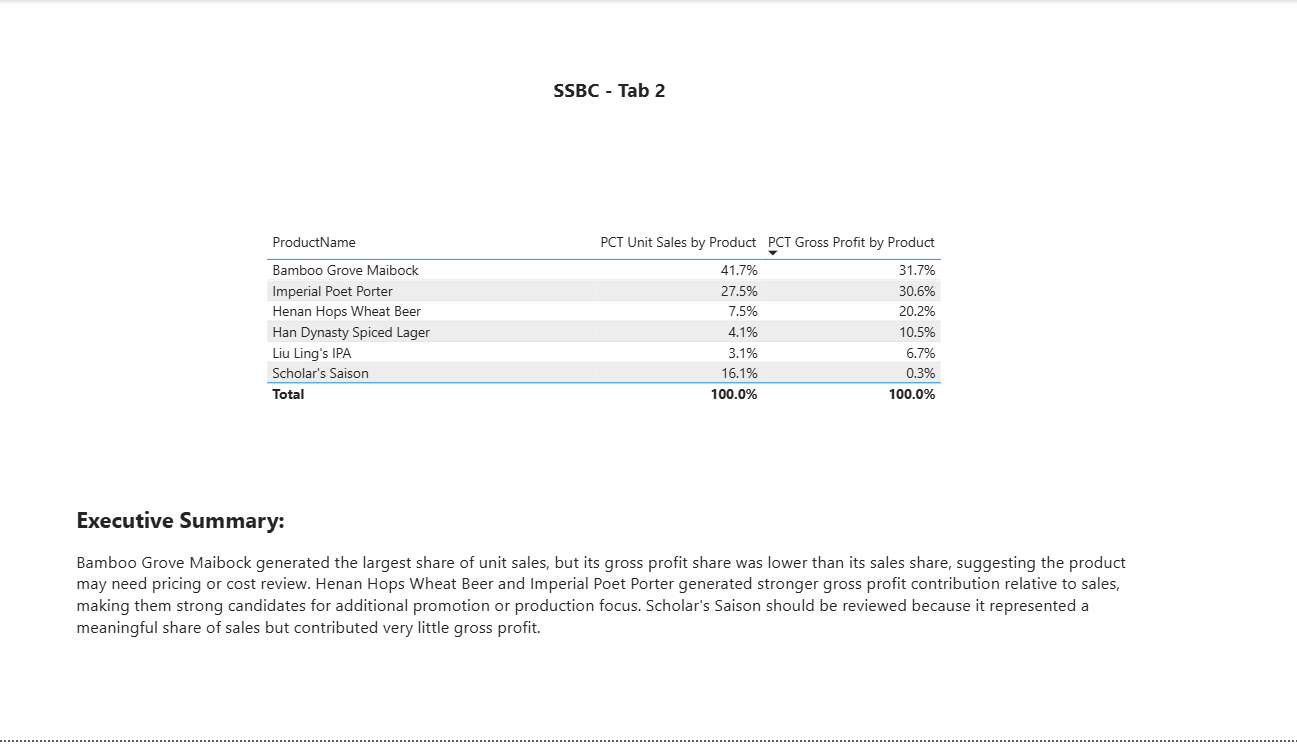

This screenshot's page, from the dashboard's own definition file:
{"tool":"powerbi","page":{"name":"Gross Profit and Unit Sales ","canvas":[1280,720],"ordinal":1},"visuals":[{"type":"tableEx","fields":{"Values":["Dim Product.ProductName","Dim Product.PCT Unit Sales by Product","Dim Product.PCT Gross Profit by Product"]},"box":[266.6,219.7,678.4,193.3],"z":0},{"type":"textbox","box":[81.7,485.1,1037.4,165.7],"z":1000},{"type":"textbox","box":[92.5,18,1026.6,157.3],"z":2000}]}

Visuals, with their boxes in screenshot pixels (x1, y1, x2, y2), scaled from the page's 1280x720 canvas onto the 1297x752 screenshot:
tableEx - Dim Product.ProductName x Dim Product.PCT Unit Sales by Product: {"x1": 270, "y1": 229, "x2": 958, "y2": 431}
textbox: {"x1": 83, "y1": 507, "x2": 1134, "y2": 680}
textbox: {"x1": 94, "y1": 19, "x2": 1134, "y2": 183}
